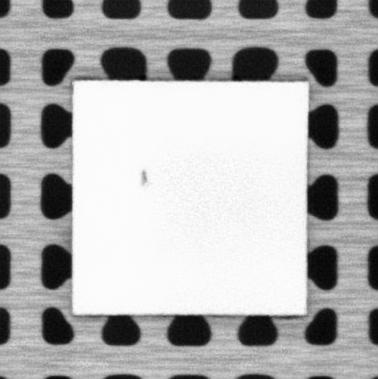DIE_INK: (137, 166, 150, 188)
